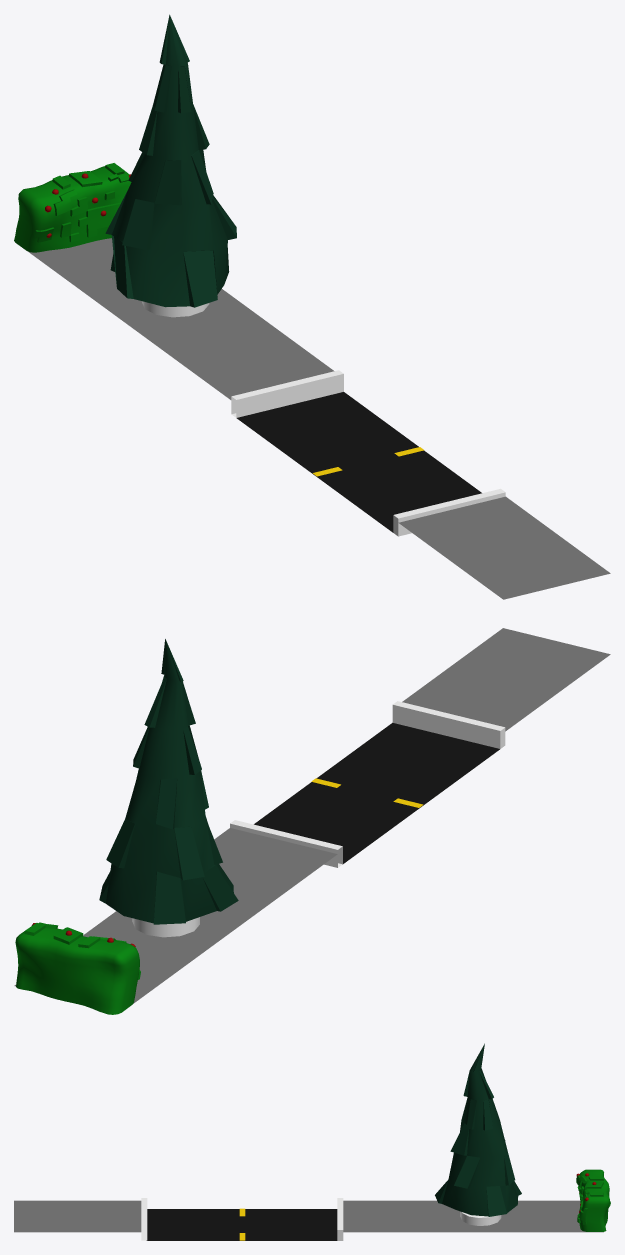
Rendered from Street04.FBX.
The picture shows the model from 3 angles, top to bottom: view 1: azimuth 30°, elevation 25°; view 2: azimuth 150°, elevation 25°; view 3: azimuth 270°, elevation 25°; orthographic projection. The views are drawn at different scales.
Parts seen in each view (by area): view 1: Cone001, Plane024, Cylinder026, Cylinder027, ChamferBox002, Street04; view 2: Cone001, Plane024, Cylinder026, Cylinder027, ChamferBox002, Street04, tree02; view 3: Cone001, Cylinder026, Plane024, Cylinder027, ChamferBox002, Street04, tree02.
Part boxes in pixels (x1=…): Cone001: x1=105, y1=14, x2=236, y2=307; Plane024: x1=236, y1=392, x2=481, y2=532; Cylinder026: x1=28, y1=238, x2=334, y2=399; Cylinder027: x1=398, y1=496, x2=610, y2=599; ChamferBox002: x1=14, y1=163, x2=131, y2=252; Street04: x1=231, y1=370, x2=505, y2=536; Cone001: x1=99, y1=639, x2=238, y2=924; Plane024: x1=254, y1=722, x2=499, y2=863; Cylinder026: x1=14, y1=828, x2=337, y2=1003; Cylinder027: x1=402, y1=628, x2=610, y2=731; ChamferBox002: x1=15, y1=922, x2=140, y2=1014; Street04: x1=230, y1=701, x2=505, y2=867; tree02: x1=132, y1=917, x2=199, y2=937; Cone001: x1=435, y1=1043, x2=521, y2=1216; Cylinder026: x1=343, y1=1200, x2=603, y2=1232; Plane024: x1=146, y1=1209, x2=337, y2=1240; Cylinder027: x1=14, y1=1200, x2=141, y2=1232; ChamferBox002: x1=576, y1=1169, x2=610, y2=1231; Street04: x1=141, y1=1198, x2=343, y2=1240; tree02: x1=460, y1=1211, x2=501, y2=1225.
Bounding box in the file's own units: 17.35 × 42.64 × 126.
